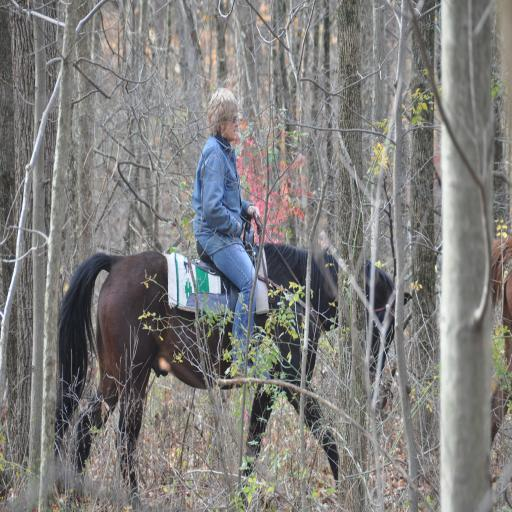horse: (51, 240, 413, 509), (485, 234, 512, 453)
